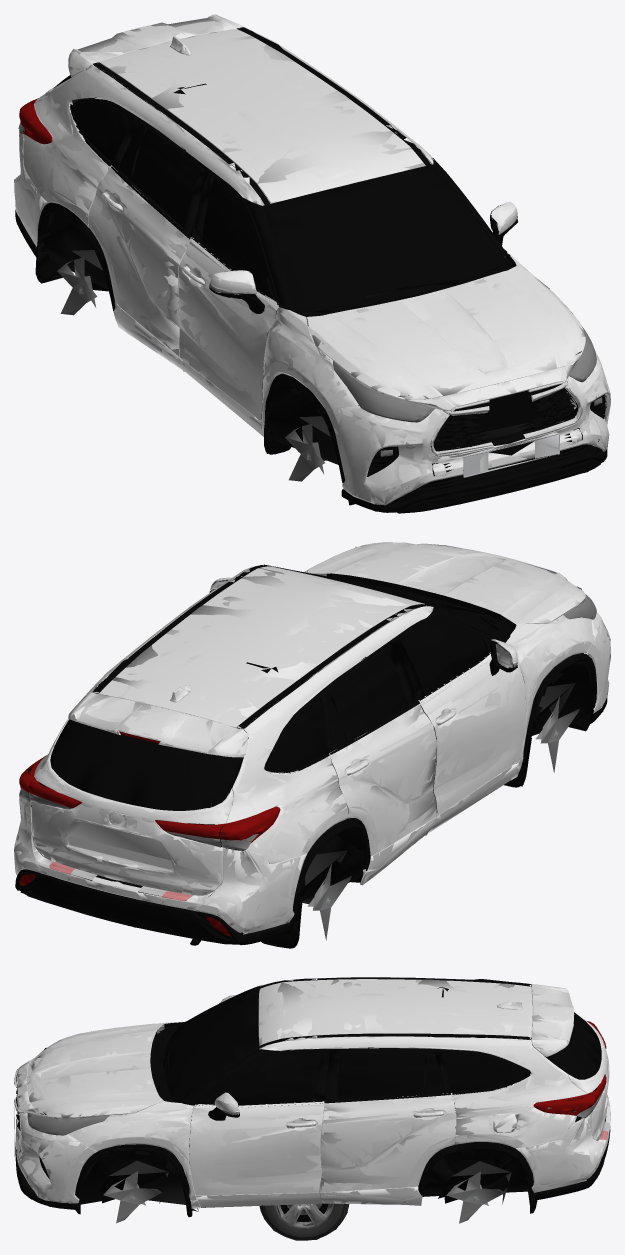
File: suv15.glb
3 views of the same model, one above another, from view 1: azimuth 30°, elevation 25°; view 2: azimuth 150°, elevation 25°; view 3: azimuth 270°, elevation 25° (orthographic). The views are drawn at different scales.
Parts seen in each view (by area): view 1: body0, body2, body1; view 2: body0, body2, body1; view 3: body0, body2, body1, wheel0, wheel1.
Boxes of the visible parts, x1,y1,x2,y2 form: body0: (14, 14, 610, 513); body2: (14, 14, 610, 512); body1: (14, 16, 610, 513); body0: (14, 542, 610, 948); body2: (14, 542, 610, 942); body1: (14, 542, 610, 948); body0: (14, 977, 610, 1216); body2: (14, 978, 610, 1223); body1: (14, 977, 610, 1216); wheel0: (259, 1203, 349, 1240); wheel1: (263, 1203, 347, 1240).
Size of the model in its own units: 2.2 by 2.15 by 4.93.
